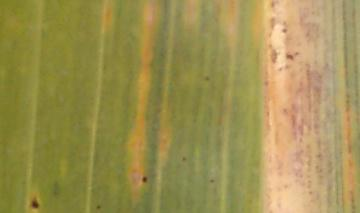tarspot: (267, 14, 280, 39), (269, 49, 279, 67), (30, 196, 40, 209), (284, 50, 294, 62), (269, 1, 279, 11), (140, 175, 149, 184), (202, 73, 210, 83), (279, 27, 288, 35), (180, 155, 188, 163), (280, 105, 287, 113), (95, 204, 102, 210), (209, 177, 215, 184)
